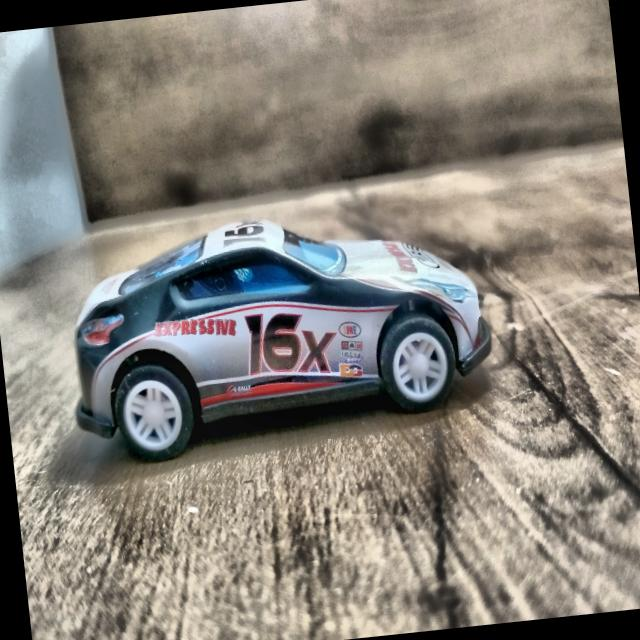Car: (54, 192, 504, 475)
